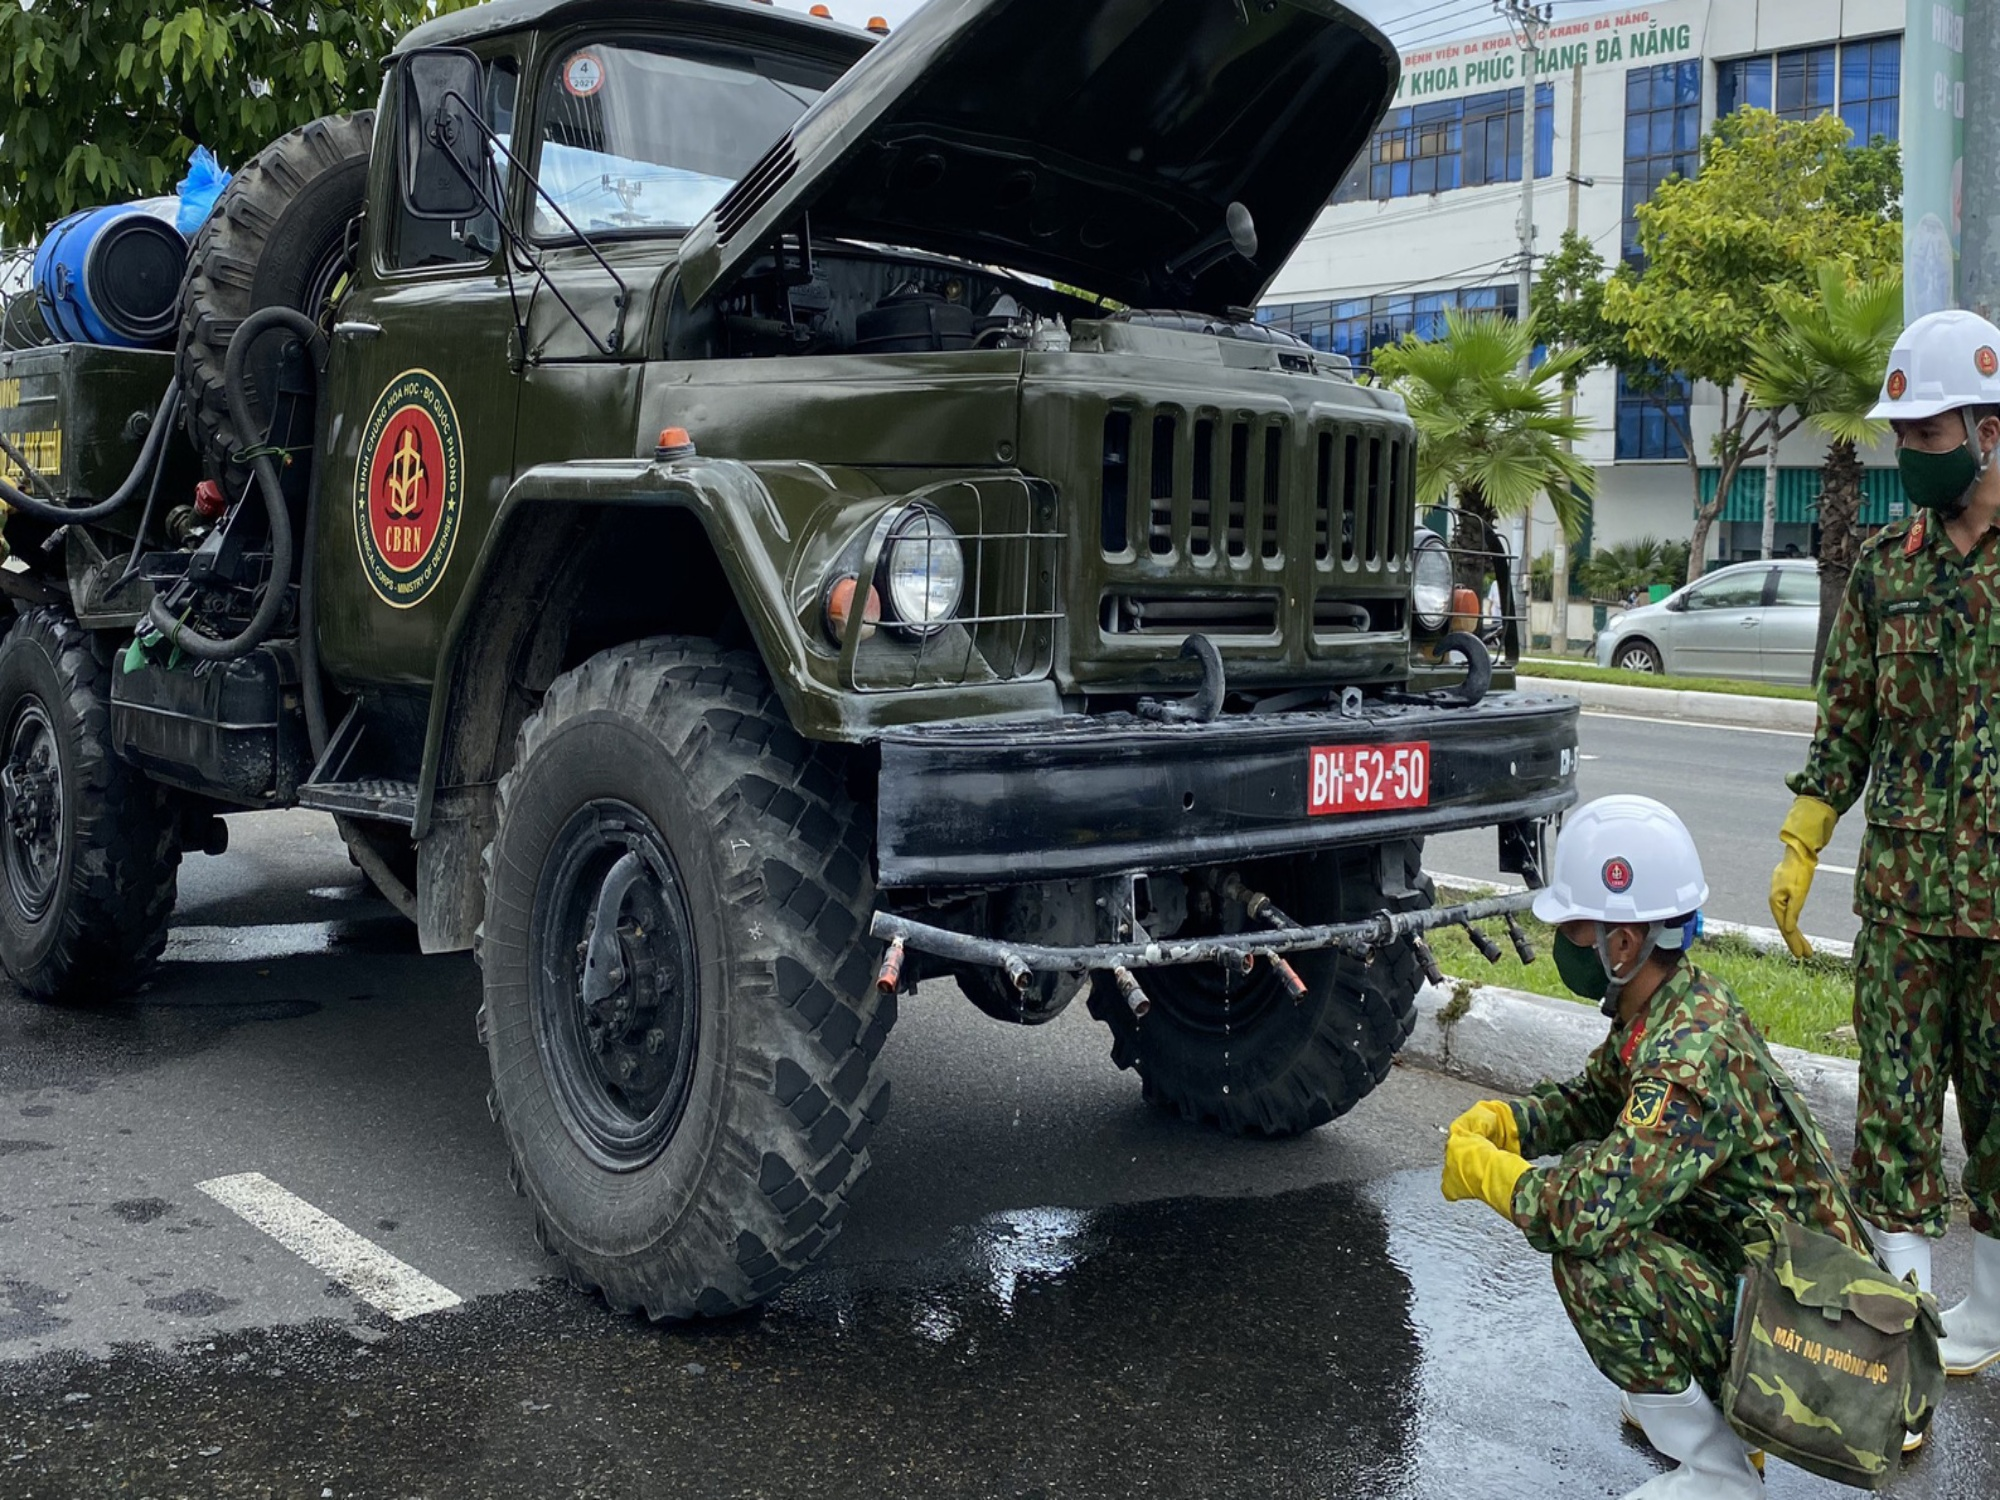plate: (1304, 742, 1432, 814)
